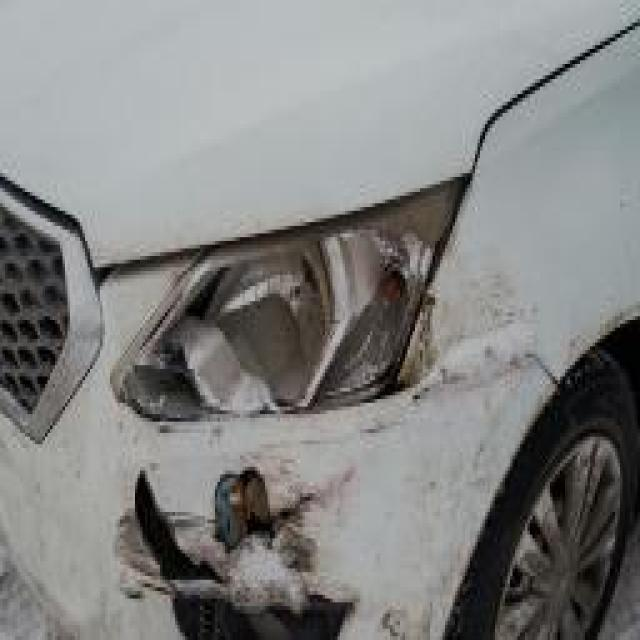Fender: (0, 157, 640, 640)
Light: (104, 170, 480, 428)
